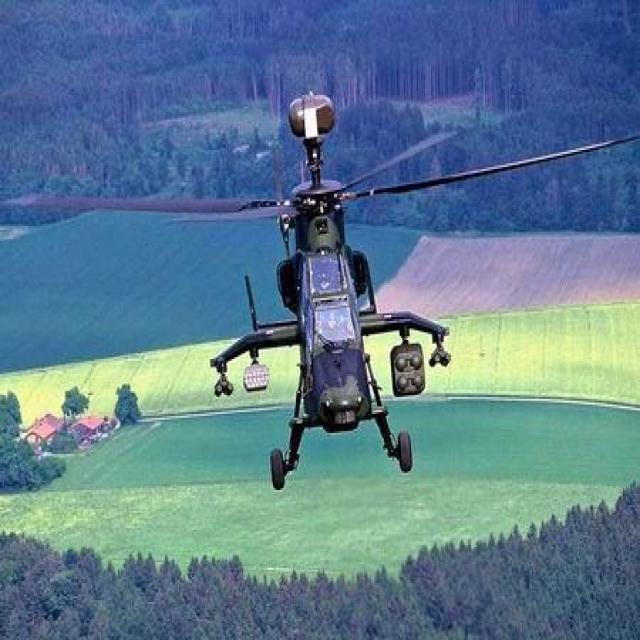MIL_HELO: (8, 87, 640, 498)
